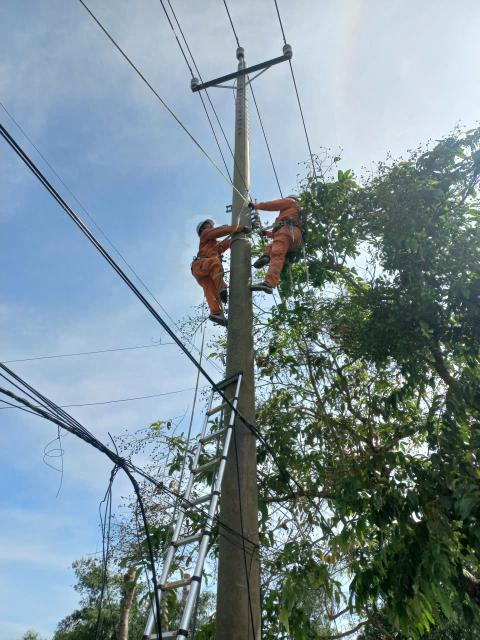gloves: (258, 224, 271, 238), (244, 200, 262, 210), (239, 222, 250, 235)
harness: (274, 217, 313, 238), (182, 251, 227, 269)
helmet: (188, 212, 219, 232), (285, 187, 299, 201)
shoes: (246, 278, 276, 300), (207, 308, 235, 331), (251, 253, 272, 272), (214, 284, 234, 303)
